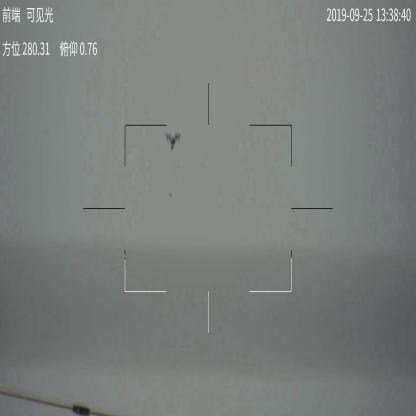uav: (165, 131, 181, 153)
